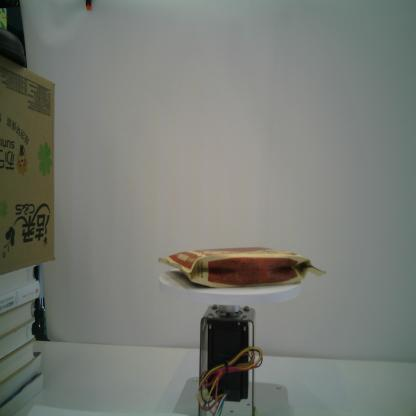Dried Food: (156, 244, 328, 290)
